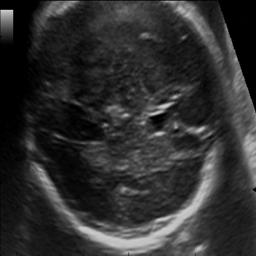normal: (26, 4, 230, 252)
